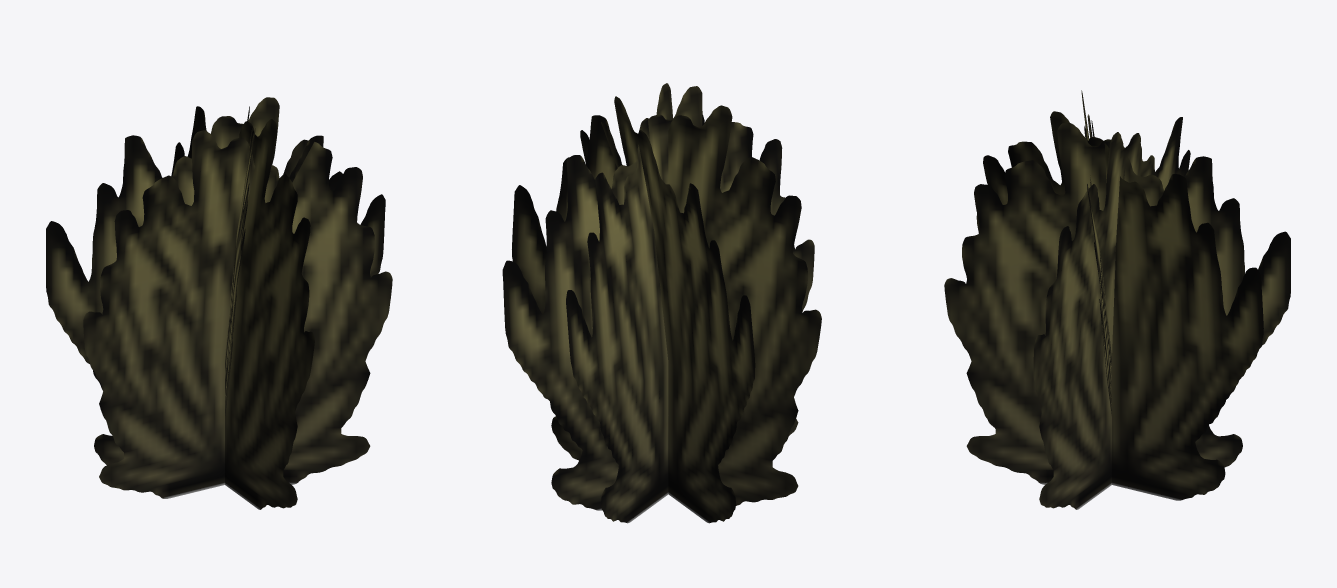
File: Autumn_PineFlower.fbx
3 views of the same model, side by side, from view 1: azimuth 30°, elevation 25°; view 2: azimuth 150°, elevation 25°; view 3: azimuth 270°, elevation 25° (orthographic). The views are drawn at different scales.
Visible parts, largest first — view 1: Autum_PineFlower; view 2: Autum_PineFlower; view 3: Autum_PineFlower.
Boxes of the visible parts, x1=… form: Autum_PineFlower: x1=46, y1=97, x2=392, y2=509; Autum_PineFlower: x1=502, y1=83, x2=821, y2=523; Autum_PineFlower: x1=944, y1=90, x2=1290, y2=509.
Size of the model in its own units: 400 by 400 by 400.
1 material, 1 textured.
